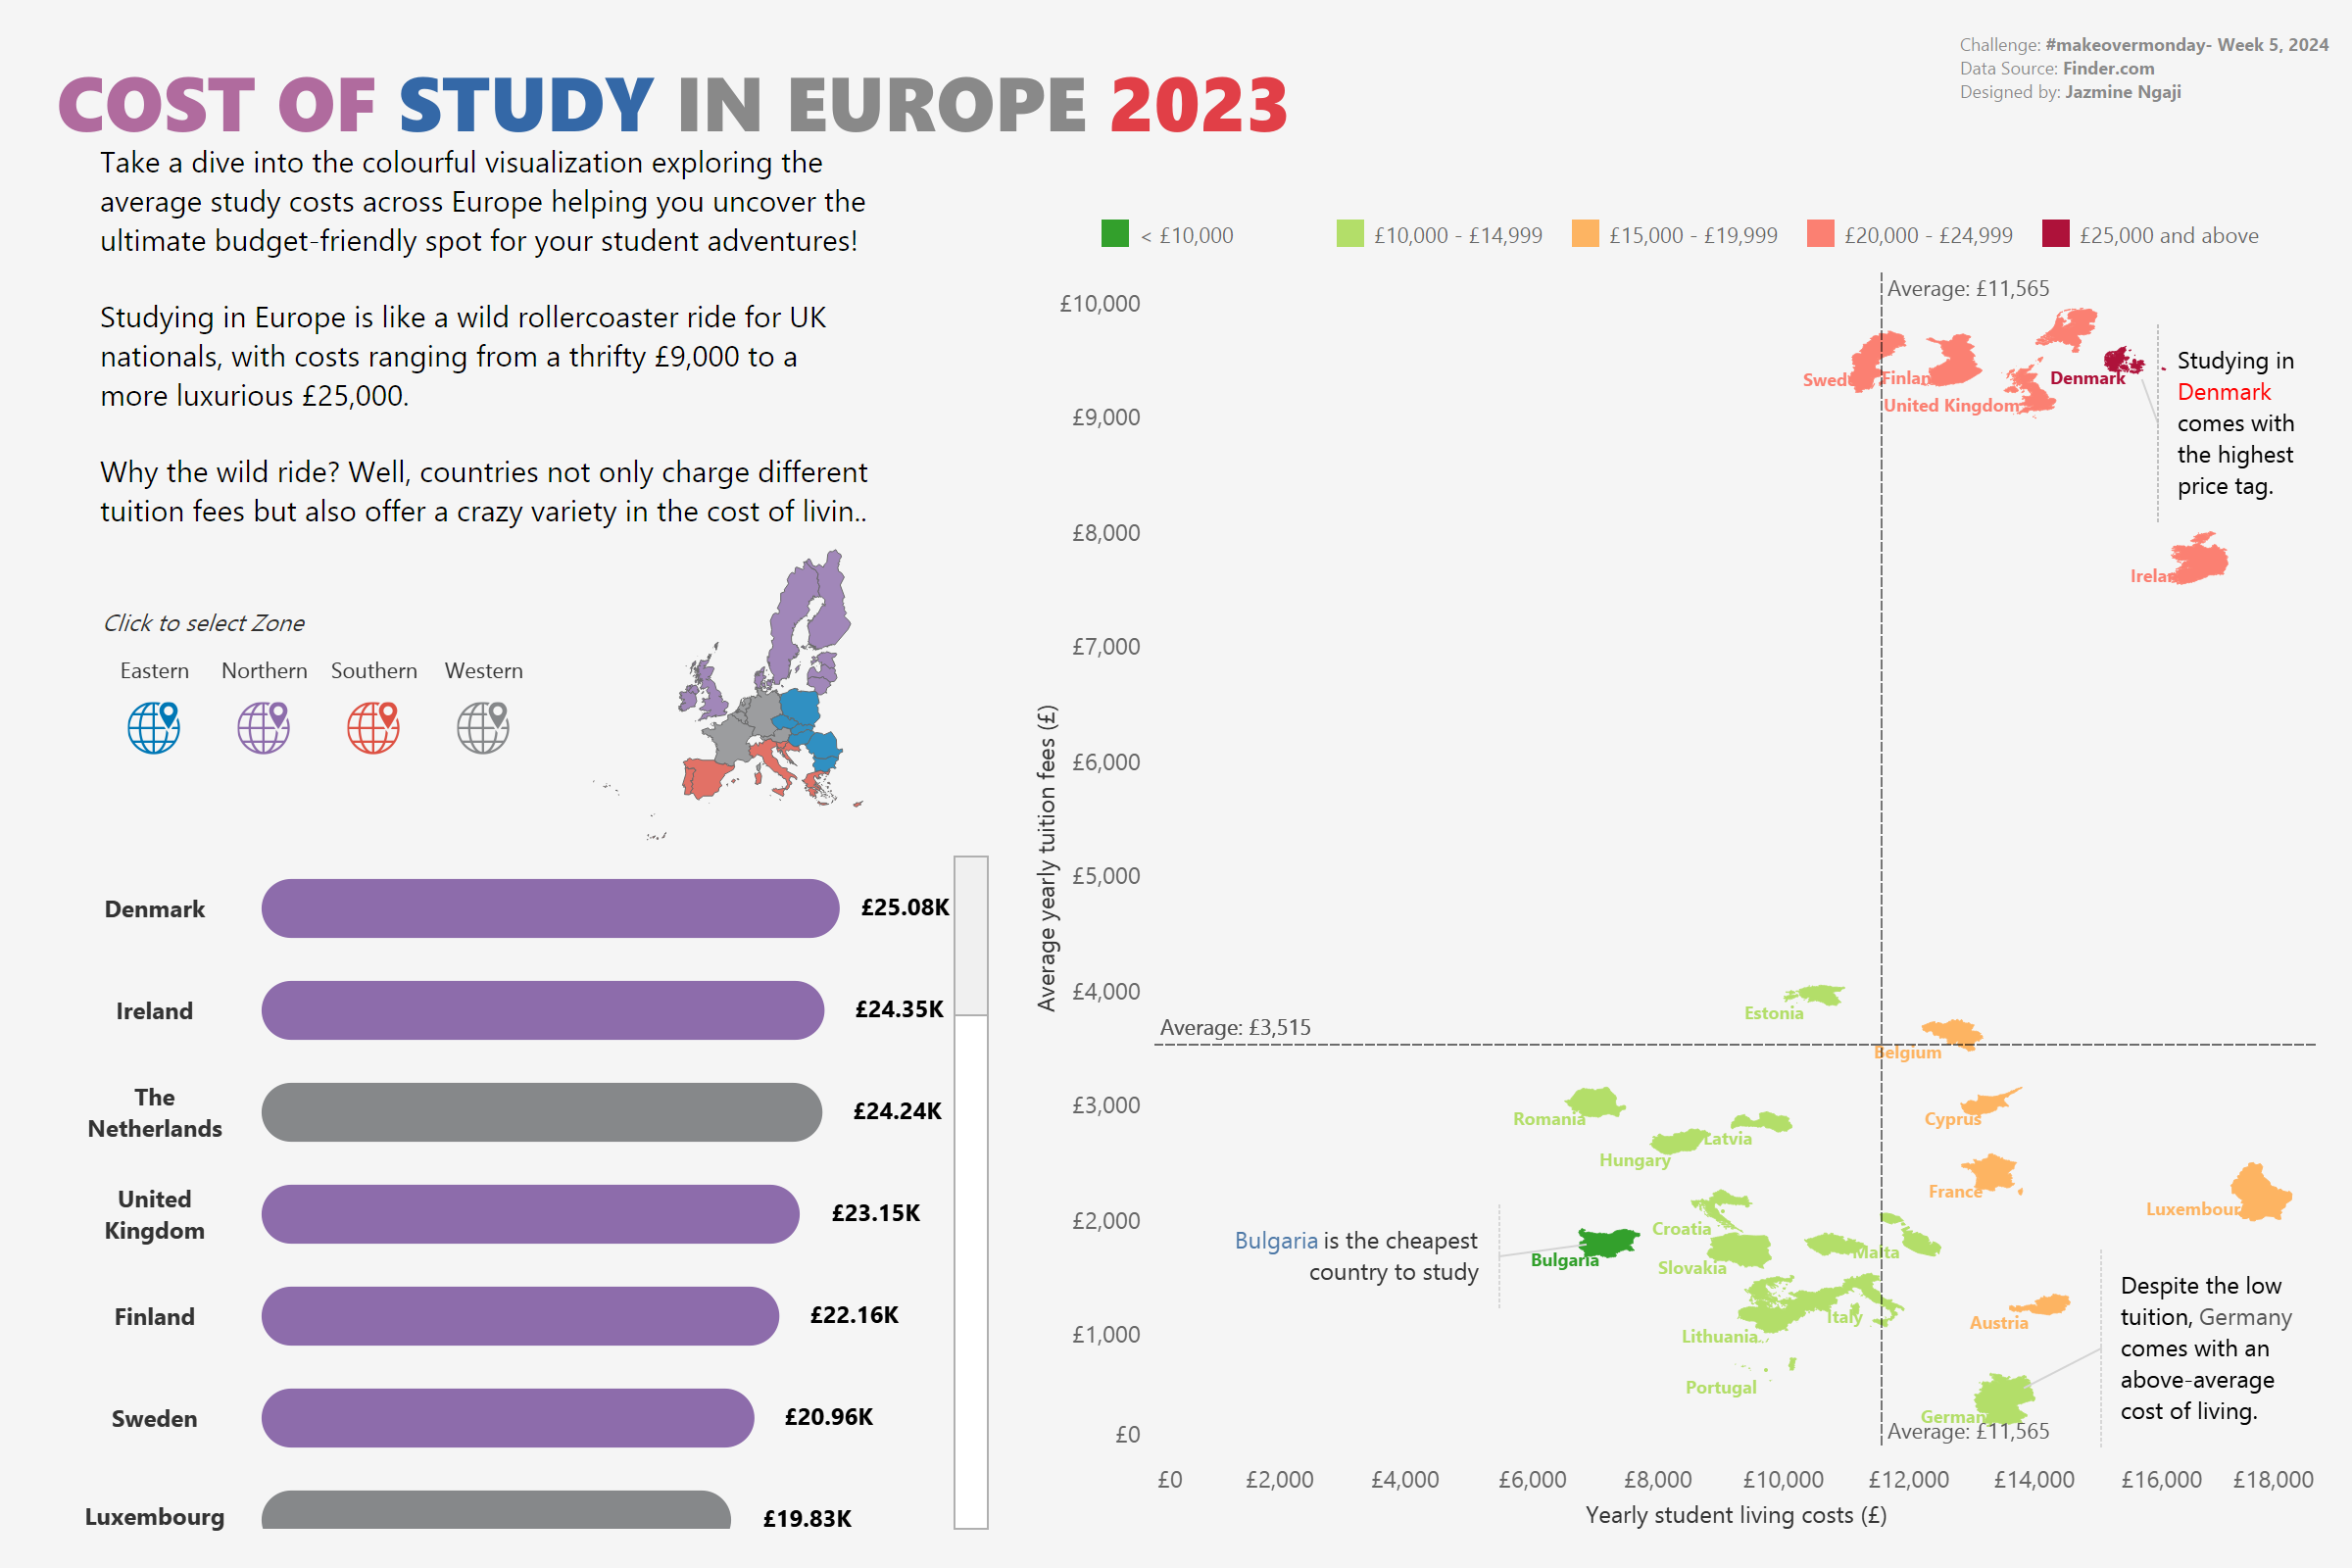

The dashboard page shown, as its layout file describes it:
{"tool":"tableau","page":{"name":"Cost of study in Europe","canvas":[1200,800],"ordinal":0},"visuals":[{"type":"text","box":[997,21,195,48]},{"type":"text","box":[26,26,821,50]},{"type":"text","box":[48,68,399,232]},{"type":"legend","title":"Scatter Plot by map","param":"[federated.02795ty06jyech1aqjnm60i6w6gt].[none:Total yearly living costs and fee","box":[530,95,652,23]},{"type":"worksheet","title":"Scatter Plot by map","mark":"Multipolygon","rows":["Average yearly tuition fees (£)"],"cols":["Yearly student living costs (£)","Yearly student living costs (£)"],"box":[509,139,674,641]},{"type":"worksheet","title":"Map","mark":"Multipolygon","box":[246,303,260,154]},{"type":"worksheet","title":"Region Icon","mark":"Shape","box":[29,373,71,49]},{"type":"parameter","param":"[Parameters].[Parameter 1]","box":[87,374,160,47]},{"type":"worksheet","title":"Bar","mark":"Line","rows":["Country"],"box":[29,459,483,321]}]}

Visuals, with their boxes in screenshot pixels (x1, y1, x2, y2), scaled from the page's 1200x800 canvas onto the 2352x1568 screenshot:
text: {"x1": 1954, "y1": 41, "x2": 2336, "y2": 135}
text: {"x1": 51, "y1": 51, "x2": 1660, "y2": 149}
text: {"x1": 94, "y1": 133, "x2": 876, "y2": 588}
"Scatter Plot by map" legend: {"x1": 1039, "y1": 186, "x2": 2317, "y2": 231}
"Scatter Plot by map" worksheet (Multipolygon marks): {"x1": 998, "y1": 272, "x2": 2319, "y2": 1529}
"Map" worksheet (Multipolygon marks): {"x1": 482, "y1": 594, "x2": 992, "y2": 896}
"Region Icon" worksheet (Shape marks): {"x1": 57, "y1": 731, "x2": 196, "y2": 827}
parameter: {"x1": 171, "y1": 733, "x2": 484, "y2": 825}
"Bar" worksheet (Line marks): {"x1": 57, "y1": 900, "x2": 1004, "y2": 1529}
